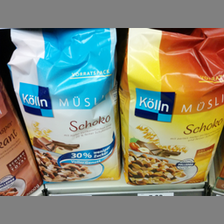cereal: (121, 42, 224, 185), (19, 35, 117, 180)
